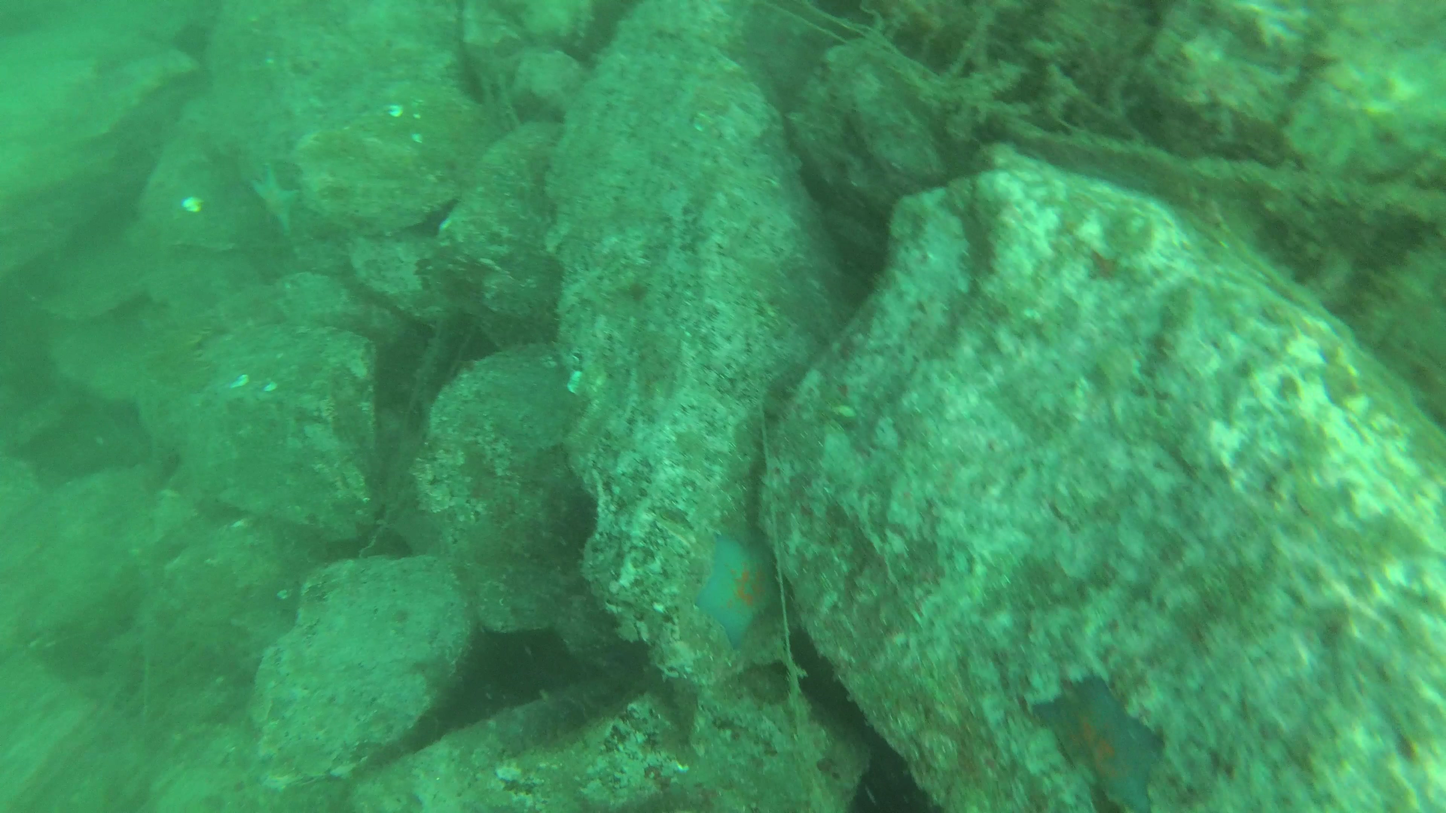echinus: (502, 679, 622, 759), (134, 307, 227, 405), (433, 210, 484, 300)
holothurian: (1023, 676, 1171, 810), (687, 531, 792, 652)
